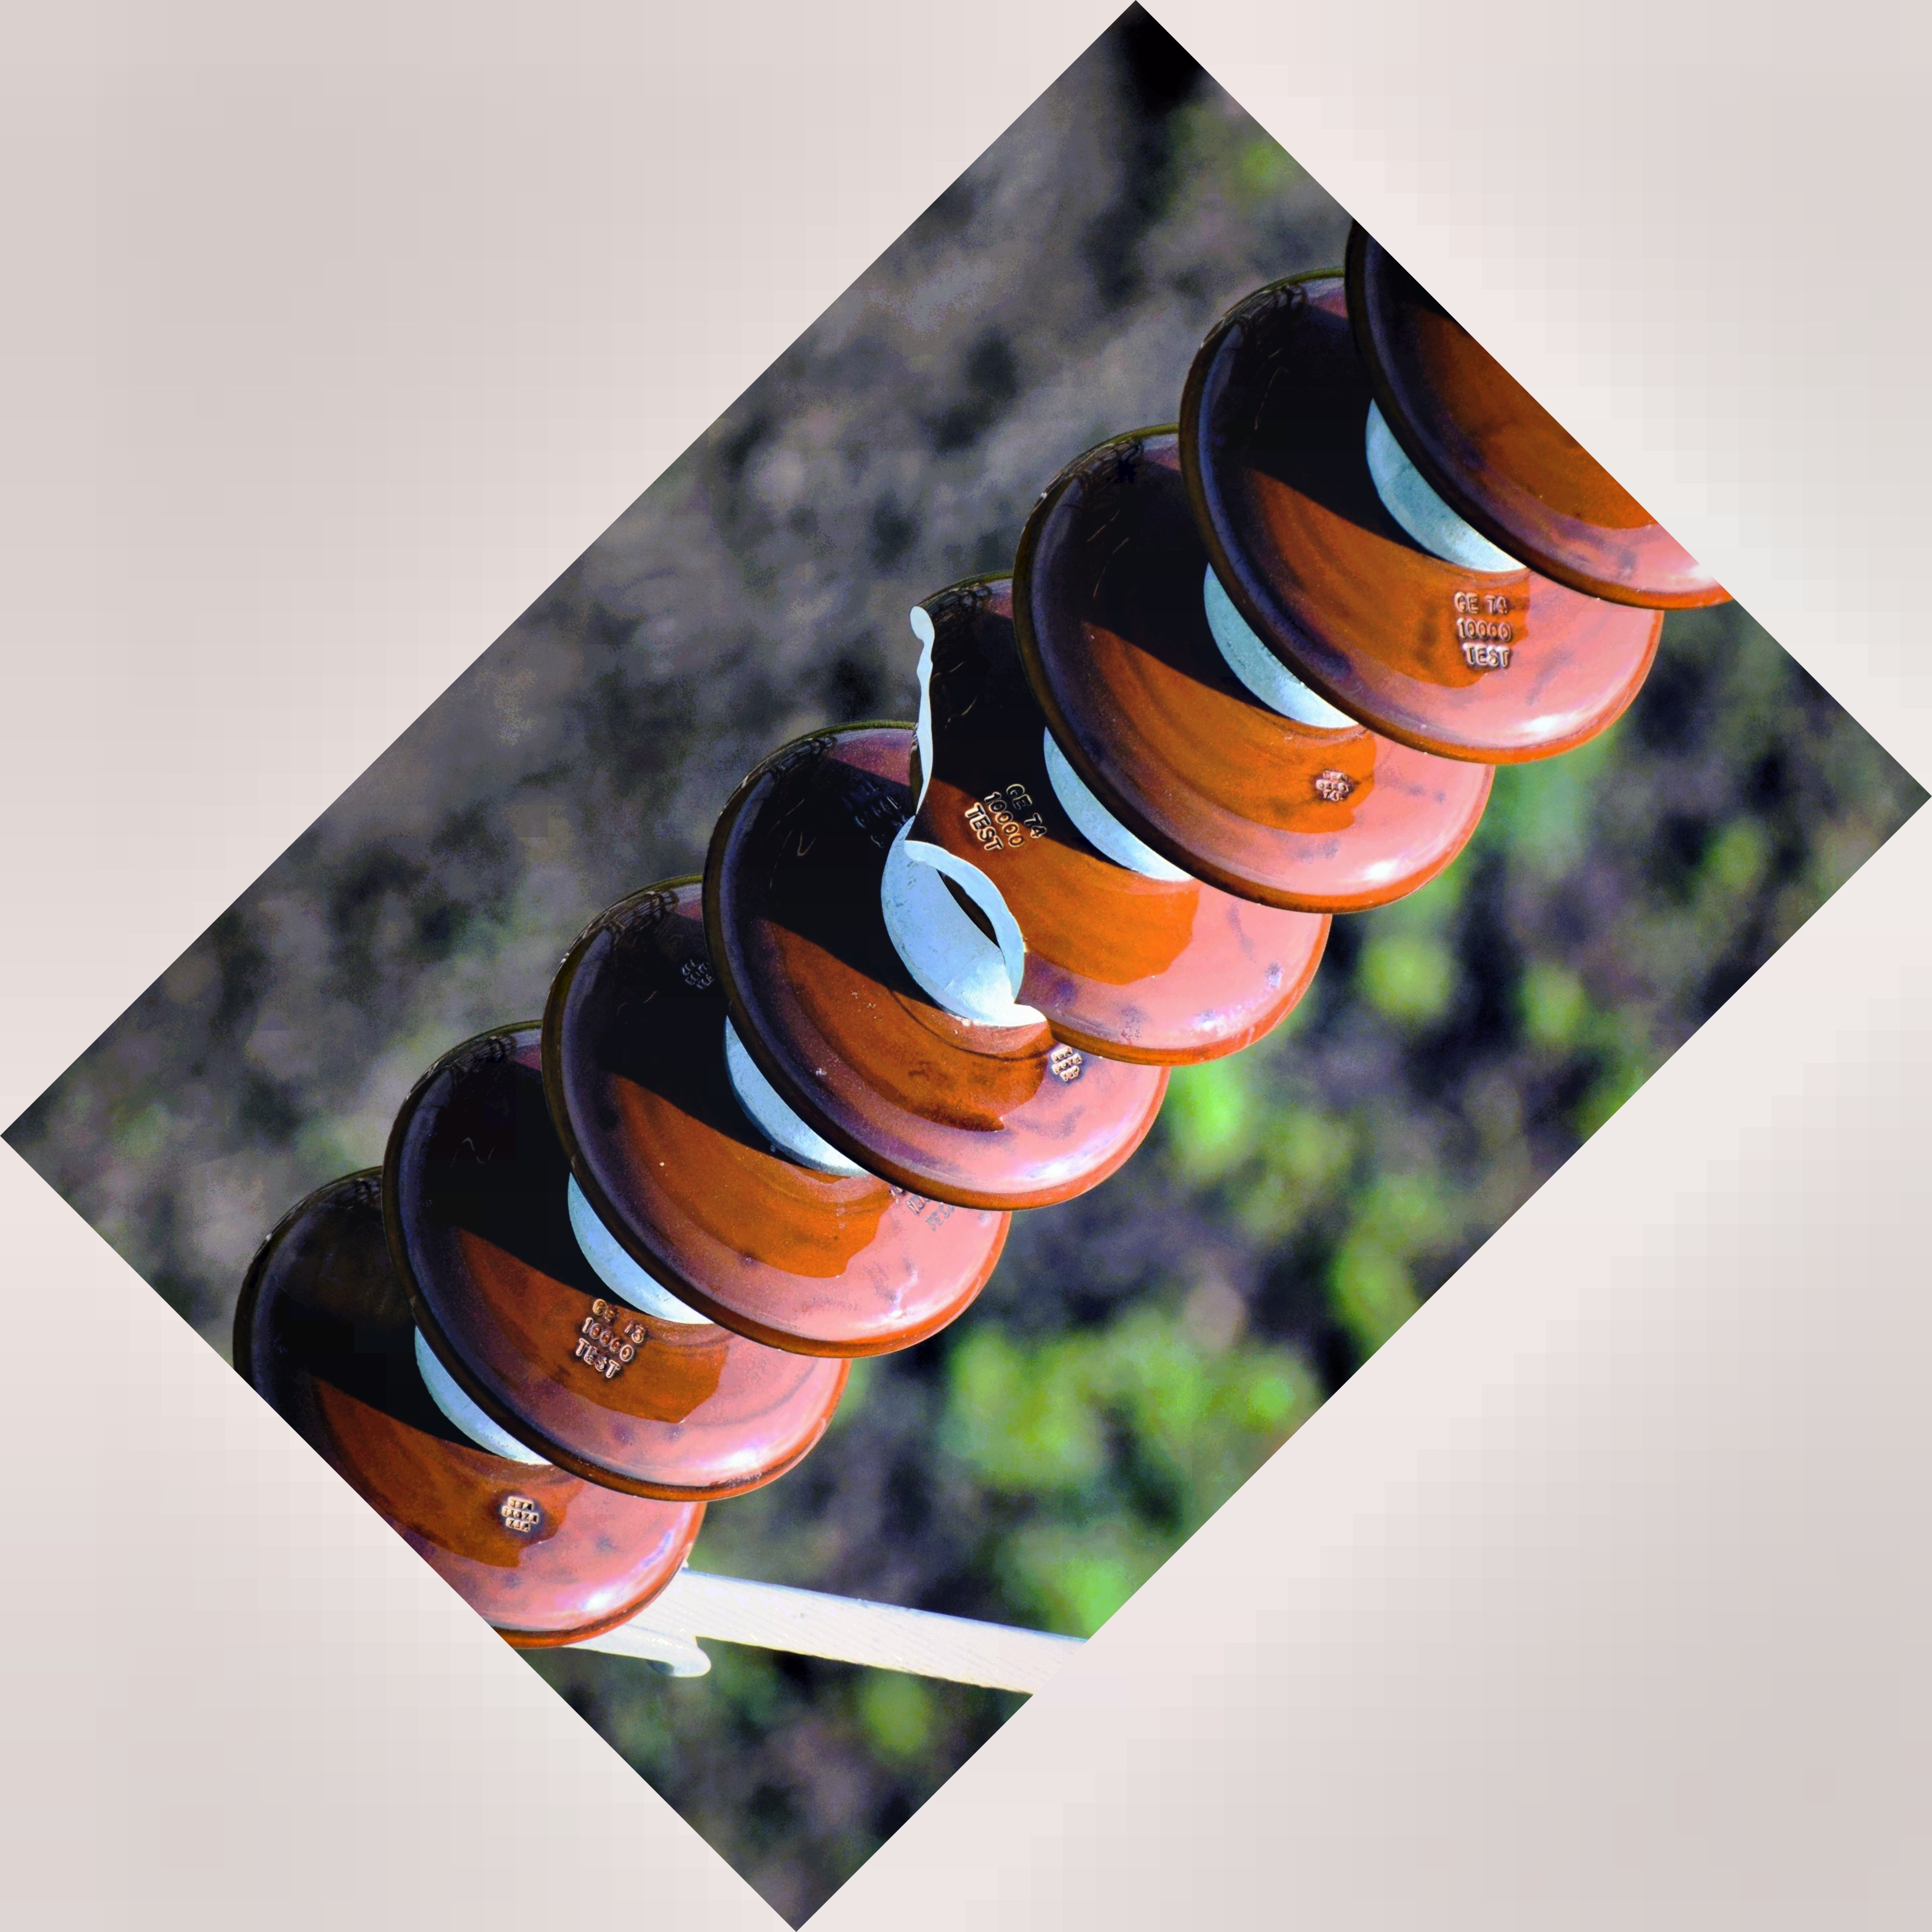insulator breakage: (870, 570, 1346, 1085)
